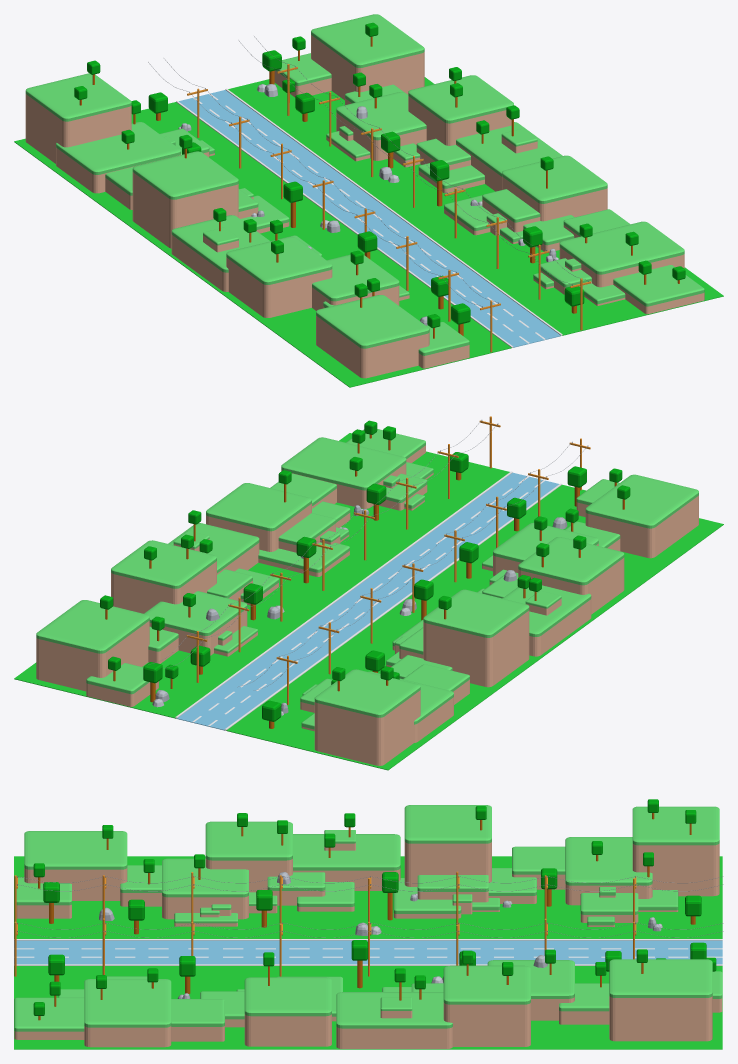
The model's file is stage_2.fbx.
3 renders of one model, top to bottom at view 1: azimuth 30°, elevation 25°; view 2: azimuth 150°, elevation 25°; view 3: azimuth 270°, elevation 25°, orthographic. The views are drawn at different scales.
Parts seen in each view (by area): view 1: ground_2, road_1, road_2, tree_2, electric_2, rock_2; view 2: ground_2, road_1, road_2, tree_2, electric_2, rock_2; view 3: ground_2, road_1, road_2, tree_2, electric_2, rock_2.
Boxes of the visible parts, x1,y1,x2,y2 form: ground_2: [25, 14, 704, 378]; road_1: [14, 77, 723, 387]; road_2: [176, 88, 562, 347]; tree_2: [74, 22, 685, 338]; electric_2: [148, 36, 590, 352]; rock_2: [178, 84, 558, 325]; ground_2: [36, 429, 698, 765]; road_1: [14, 433, 723, 770]; road_2: [175, 471, 561, 730]; tree_2: [100, 420, 630, 728]; electric_2: [148, 416, 590, 704]; rock_2: [152, 505, 567, 715]; ground_2: [14, 805, 722, 1048]; road_1: [14, 856, 722, 1049]; road_2: [14, 939, 722, 965]; tree_2: [33, 799, 716, 1020]; electric_2: [14, 871, 723, 976]; rock_2: [99, 872, 662, 998].
Bounding box in the file's own units: 151 × 29.15 × 235.
